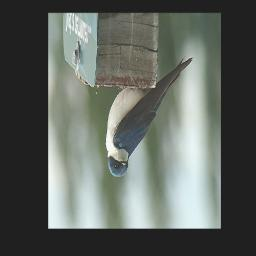Swallow: (106, 55, 194, 178)
